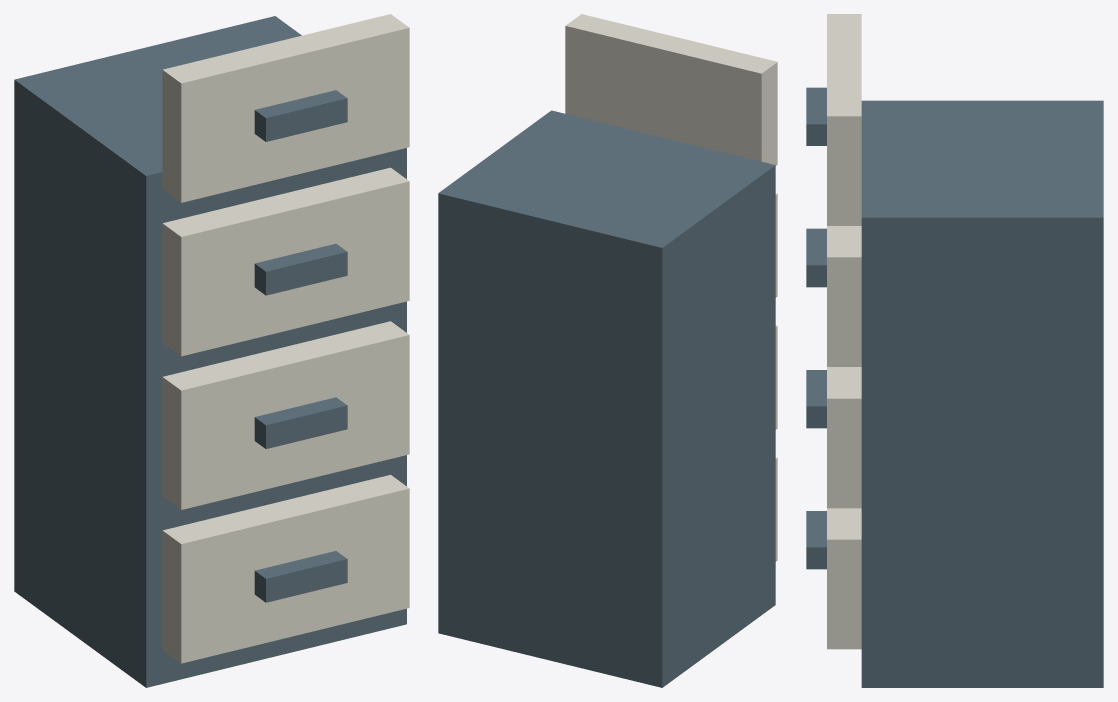
File: voxel-city-districts-filing-cabinet-b68b035b__24890.glb
3 renders of one model, left to right at view 1: azimuth 30°, elevation 25°; view 2: azimuth 150°, elevation 25°; view 3: azimuth 270°, elevation 25°, orthographic. The views are drawn at different scales.
Visible parts, largest first — view 1: filing-cabinet-concrete, filing-cabinet-dark; view 2: filing-cabinet-dark, filing-cabinet-concrete; view 3: filing-cabinet-dark, filing-cabinet-concrete.
Boxes of the visible parts, x1,y1,x2,y2 form: filing-cabinet-concrete: (162,14,409,663); filing-cabinet-dark: (14,16,406,687); filing-cabinet-dark: (438,110,775,687); filing-cabinet-concrete: (565,14,777,561); filing-cabinet-dark: (806,87,1103,687); filing-cabinet-concrete: (827,14,861,649).
Size of the model in its own units: 0.8 by 1.8 by 0.86.
